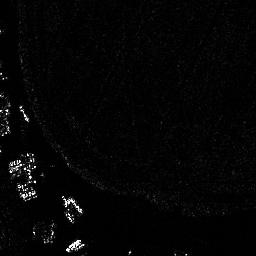ship: (62, 194, 75, 224)
